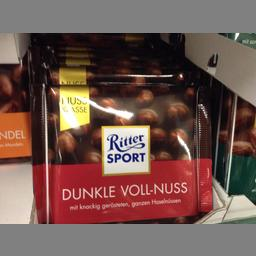chocolate: (28, 80, 212, 223)
